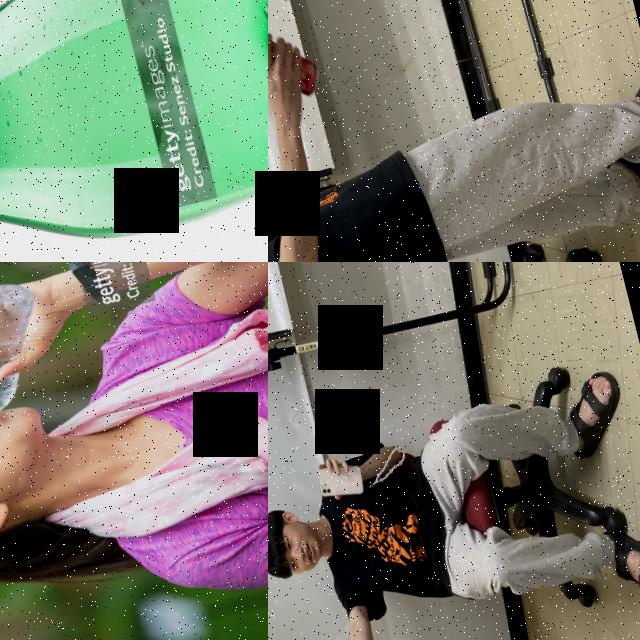bottle: (0, 0, 268, 262), (0, 268, 65, 435)
can: (268, 14, 325, 111)
